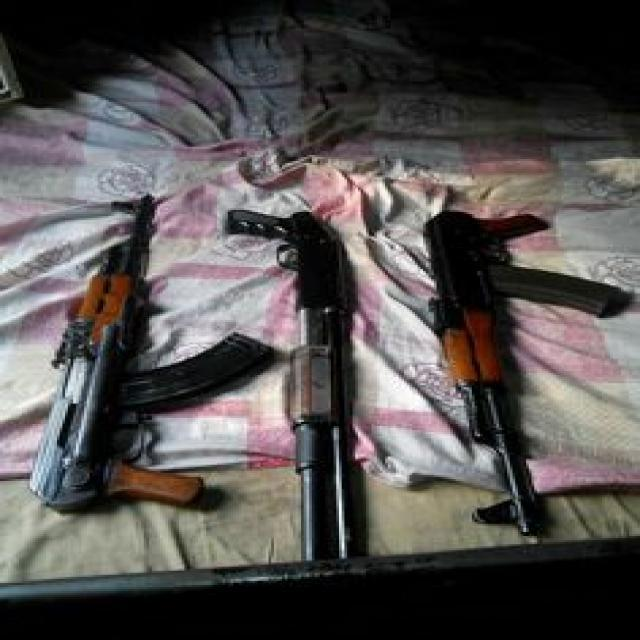ak: (35, 185, 640, 568), (46, 205, 278, 529), (234, 444, 634, 576)
